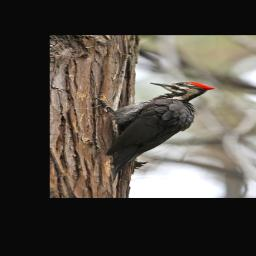Woodpecker: (93, 81, 217, 181)
